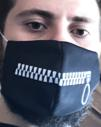with_mask: (2, 1, 101, 127)
